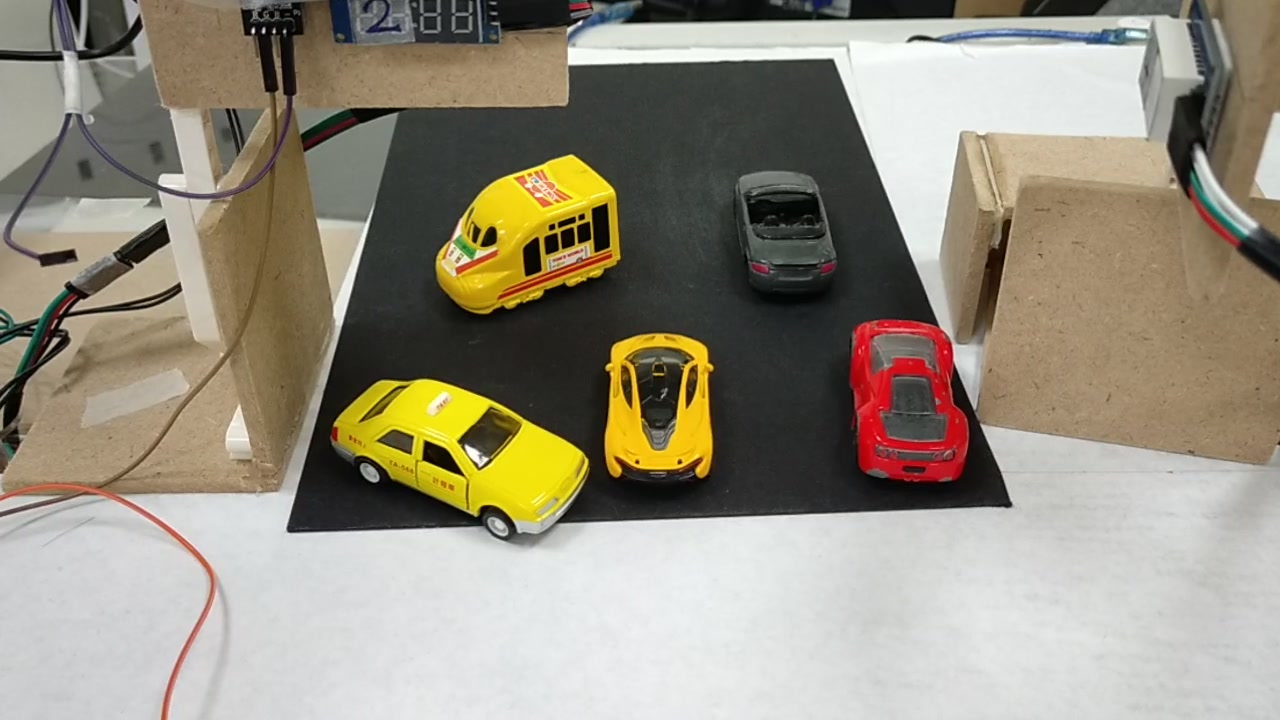car: (336, 379, 583, 547), (852, 319, 966, 484), (603, 342, 717, 490), (730, 169, 834, 287)
